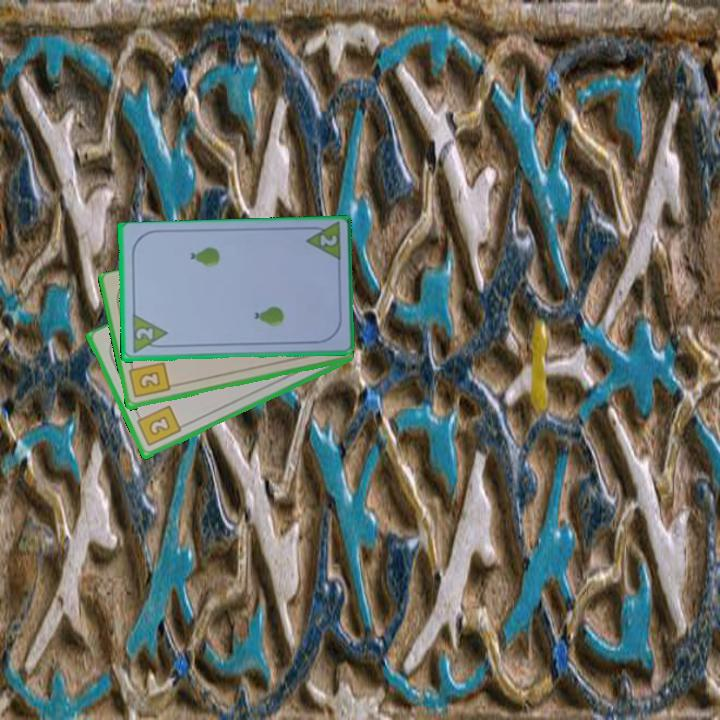2b: (132, 402, 184, 449), (125, 359, 172, 401)
2p: (301, 220, 344, 265), (128, 313, 170, 357)
